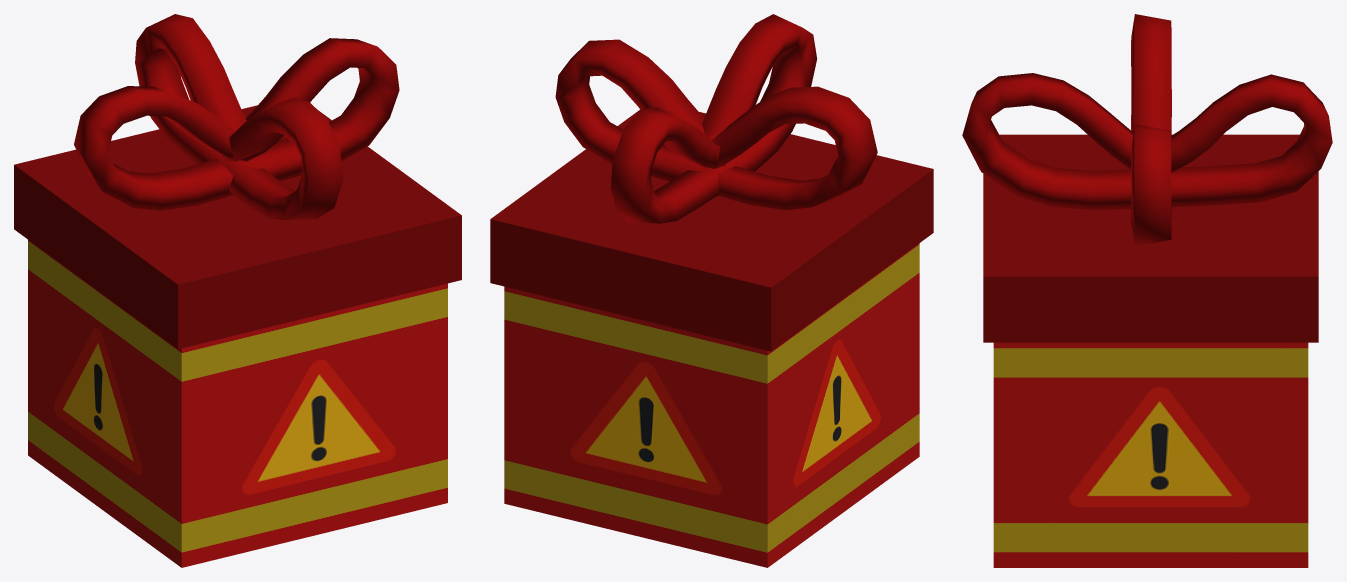
Rendered from regalo_bomba.FBX.
The picture shows the model from 3 angles, left to right: view 1: azimuth 30°, elevation 25°; view 2: azimuth 150°, elevation 25°; view 3: azimuth 270°, elevation 25°; orthographic projection. The views are drawn at different scales.
Parts seen in each view (by area): view 1: regalo_bomba; view 2: regalo_bomba; view 3: regalo_bomba.
Part boxes in pixels (bbox=[...]): regalo_bomba: bbox=[14, 14, 461, 567]; regalo_bomba: bbox=[490, 14, 933, 567]; regalo_bomba: bbox=[962, 14, 1332, 567].
Bounding box in the file's own units: 0.3533 × 0.4482 × 0.3533.
Materials: 3 (1 with a texture image).
